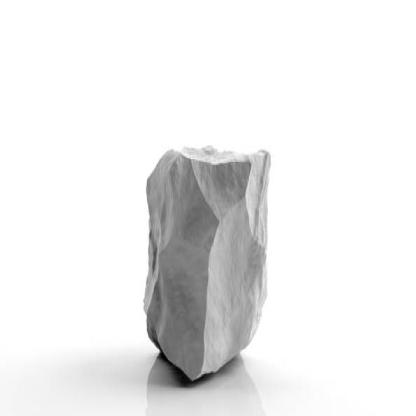Metamorphic_Marble: (126, 124, 291, 399)
